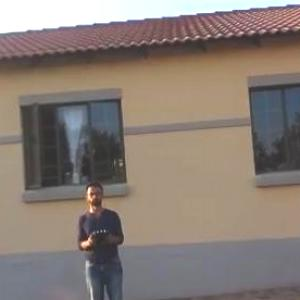follow: (74, 175, 133, 299)
